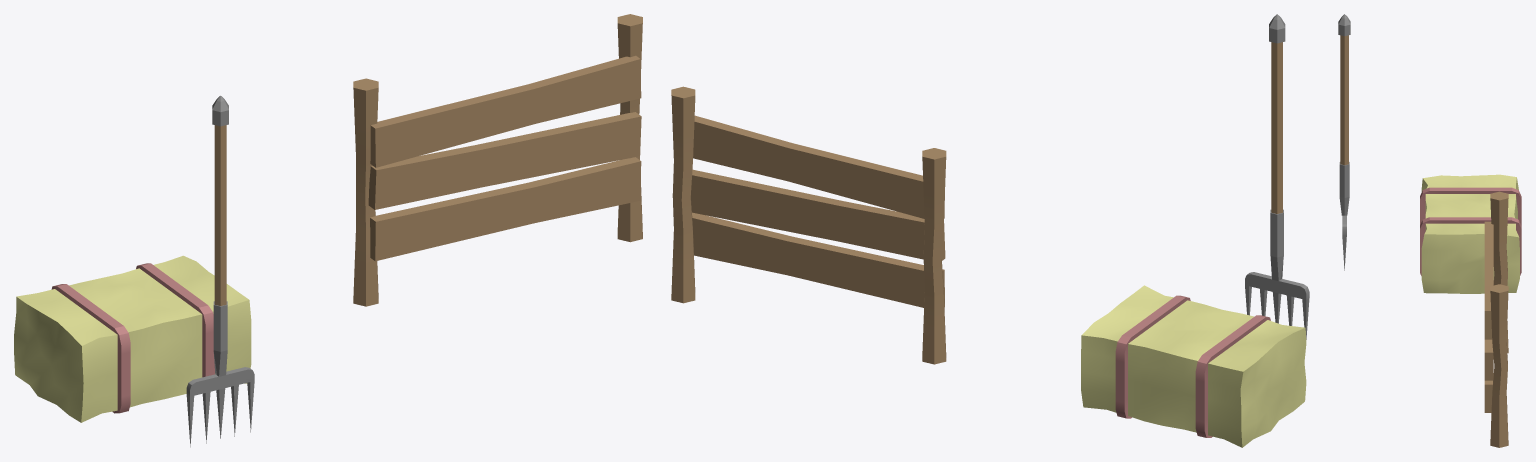
3 renders of one model, left to right at view 1: azimuth 30°, elevation 25°; view 2: azimuth 150°, elevation 25°; view 3: azimuth 270°, elevation 25°, orthographic. The views are drawn at different scales.
Parts seen in each view (by area): view 1: pCylinder5, Straw, pitchfork, pCylinder4; view 2: pCylinder5, Straw, pitchfork, pCylinder4; view 3: Straw, pCylinder5, pCylinder4, pitchfork.
Boxes of the visible parts, x1,y1,x2,y2 form: pCylinder5: [353, 55, 641, 306]; Straw: [14, 255, 251, 422]; pitchfork: [186, 95, 254, 447]; pCylinder4: [617, 14, 642, 242]; pCylinder5: [691, 115, 946, 364]; Straw: [1081, 285, 1306, 447]; pitchfork: [1245, 14, 1309, 339]; pCylinder4: [671, 86, 695, 303]; Straw: [1420, 174, 1521, 293]; pCylinder5: [1484, 191, 1508, 412]; pCylinder4: [1490, 284, 1508, 447]; pitchfork: [1338, 14, 1350, 270].
Size of the model in its own units: 794 by 429 by 283.
